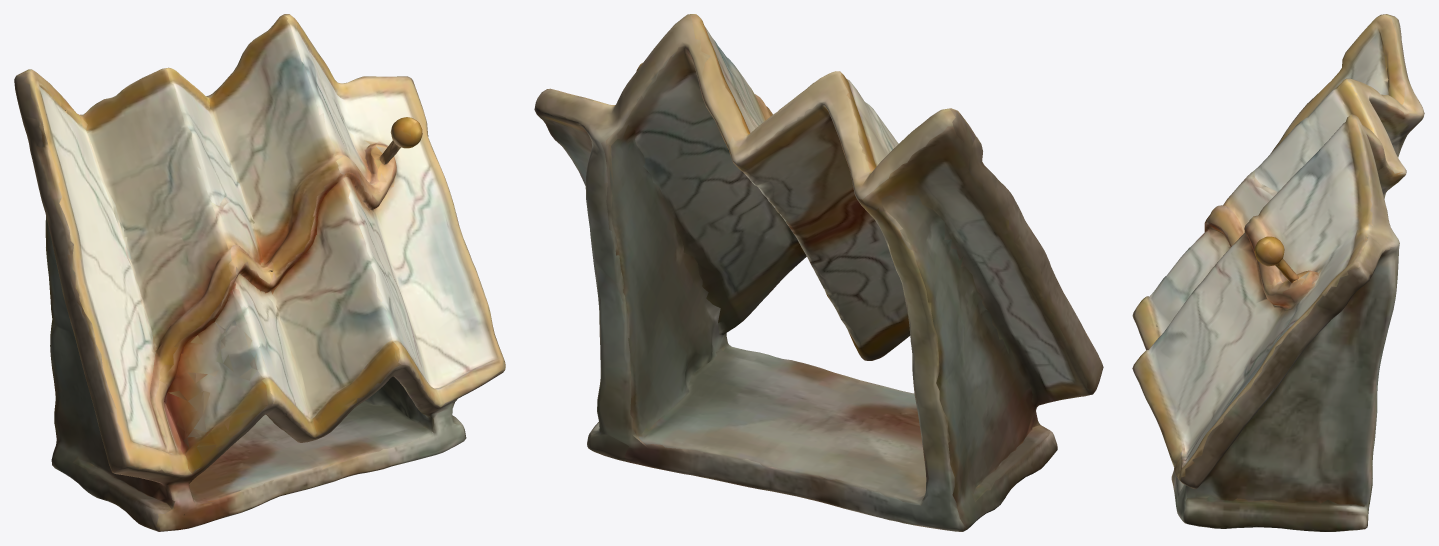
The model's file is sc-pleated-map.glb.
3 views of the same model, side by side, from view 1: azimuth 30°, elevation 25°; view 2: azimuth 150°, elevation 25°; view 3: azimuth 270°, elevation 25° (orthographic). The views are drawn at different scales.
Parts seen in each view (by area): view 1: geometry_0; view 2: geometry_0; view 3: geometry_0.
Boxes of the visible parts, x1,y1,x2,y2 form: geometry_0: (14, 14, 505, 531); geometry_0: (534, 14, 1103, 531); geometry_0: (1132, 14, 1424, 531).
Size of the model in its own units: 1 by 0.9704 by 0.6734.
1 material, 1 textured.
